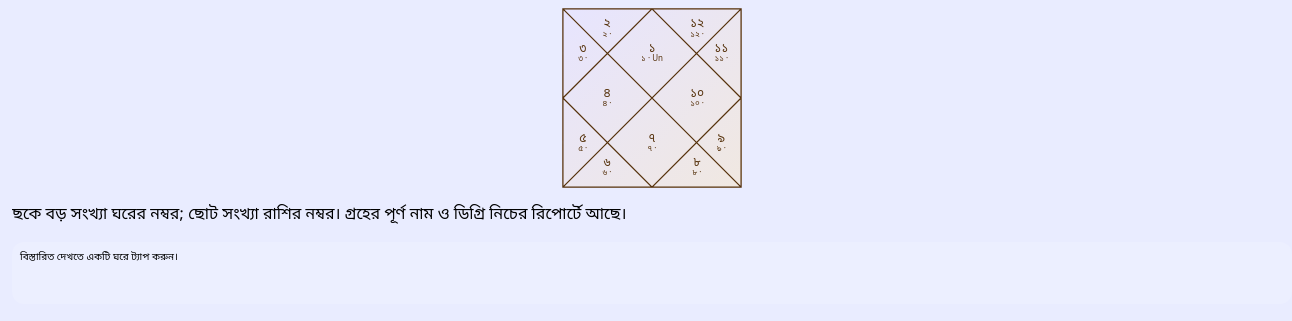
Test: explains empty calculated houses in bn
Click the button "২ ২ ·" at point(607, 29), box [590,12,624,46]
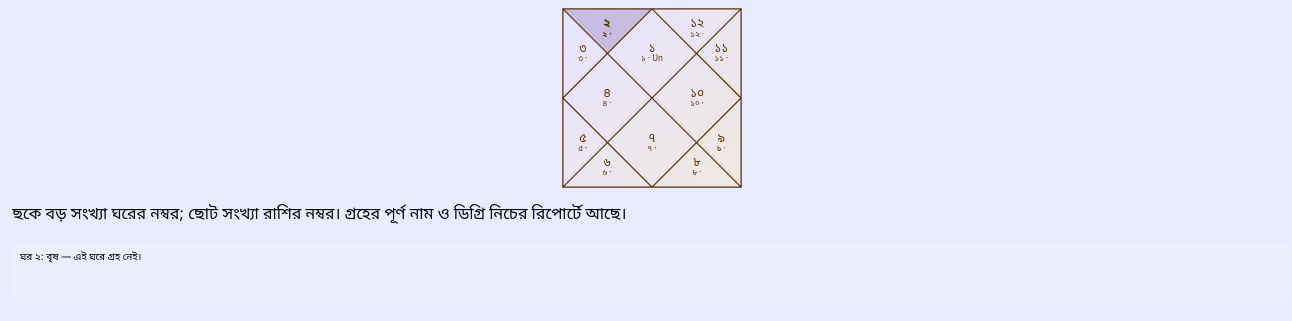
Check: the text "ঘর ২: বৃষ — এই ঘরে গ্রহ নেই।" is shown, box [12,242,1291,304]
